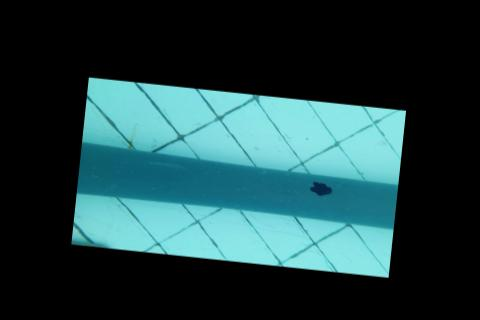kebocoran: (308, 181, 332, 197)
